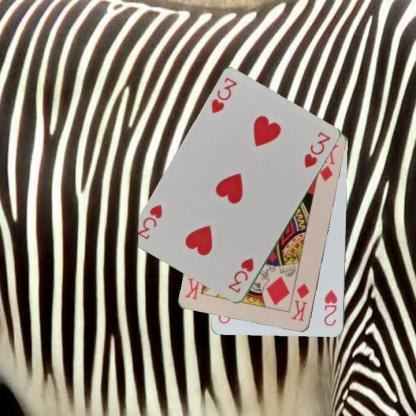2h: (322, 287, 339, 328)
3h: (209, 74, 238, 116), (226, 255, 256, 295)
Kd: (289, 281, 311, 323)
